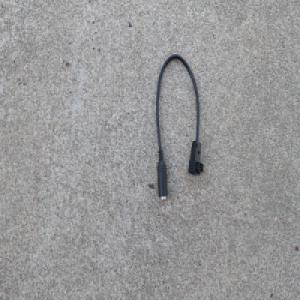Wire: (154, 51, 205, 202)
